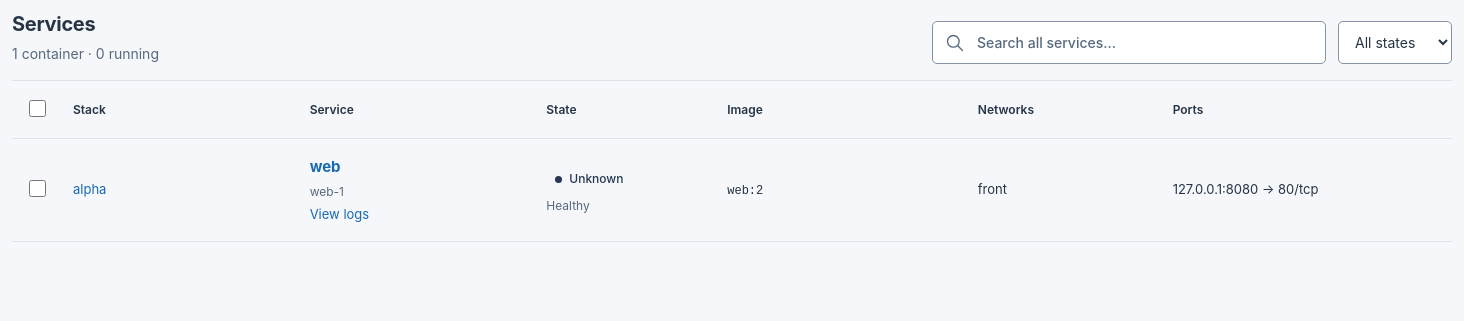
disables actions when the selected container state is unknown
What coordinates should you click on to do the following:
click the checkbox named "Select alpha web-1"
I would click on:
 (38, 189)
Its box is [29,180,46,197].
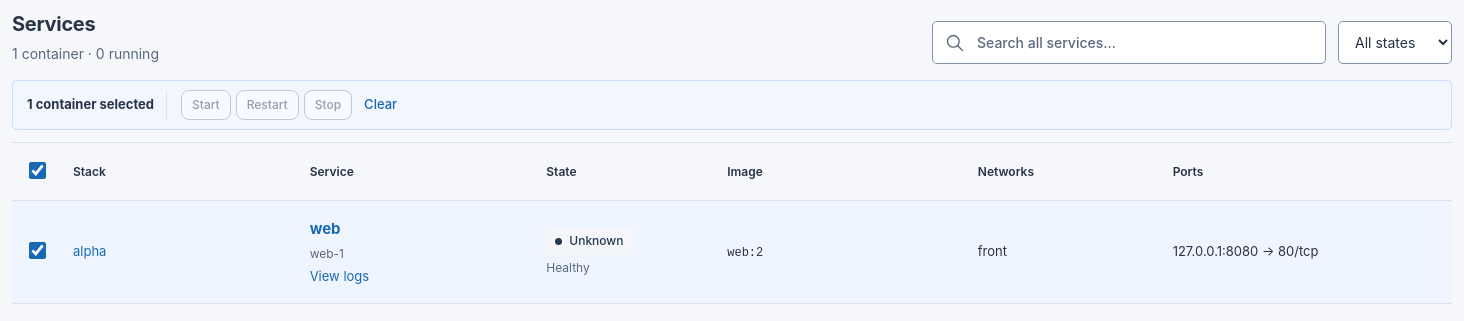
Check: the button with aria-label "Start selected" is disabled, box [181,90,231,120]
Check: the button with aria-label "Stop selected" is disabled, box [304,90,352,120]
Check: the button with aria-label "Restart selected" is disabled, box [236,90,299,120]
